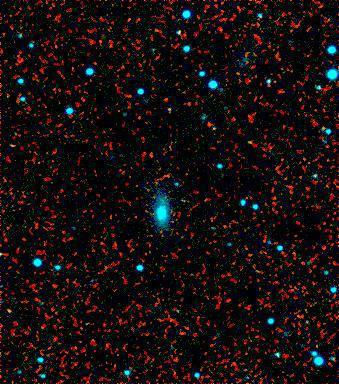star: (237, 130, 267, 160)
